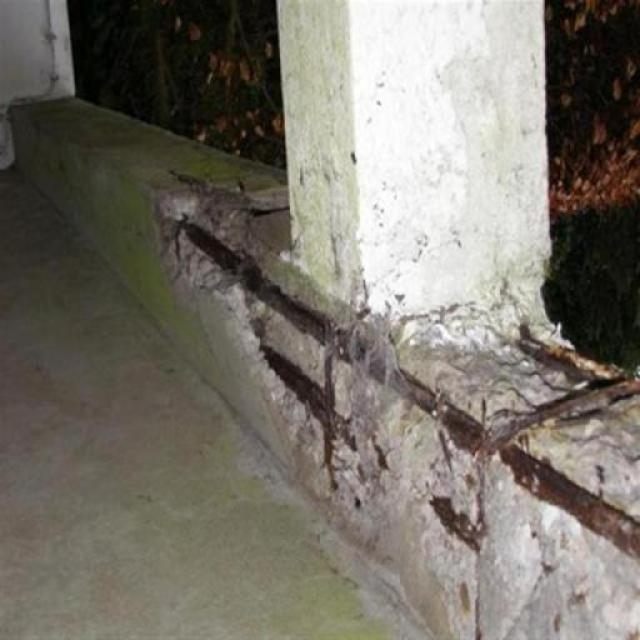D0w0: (149, 180, 639, 639)
